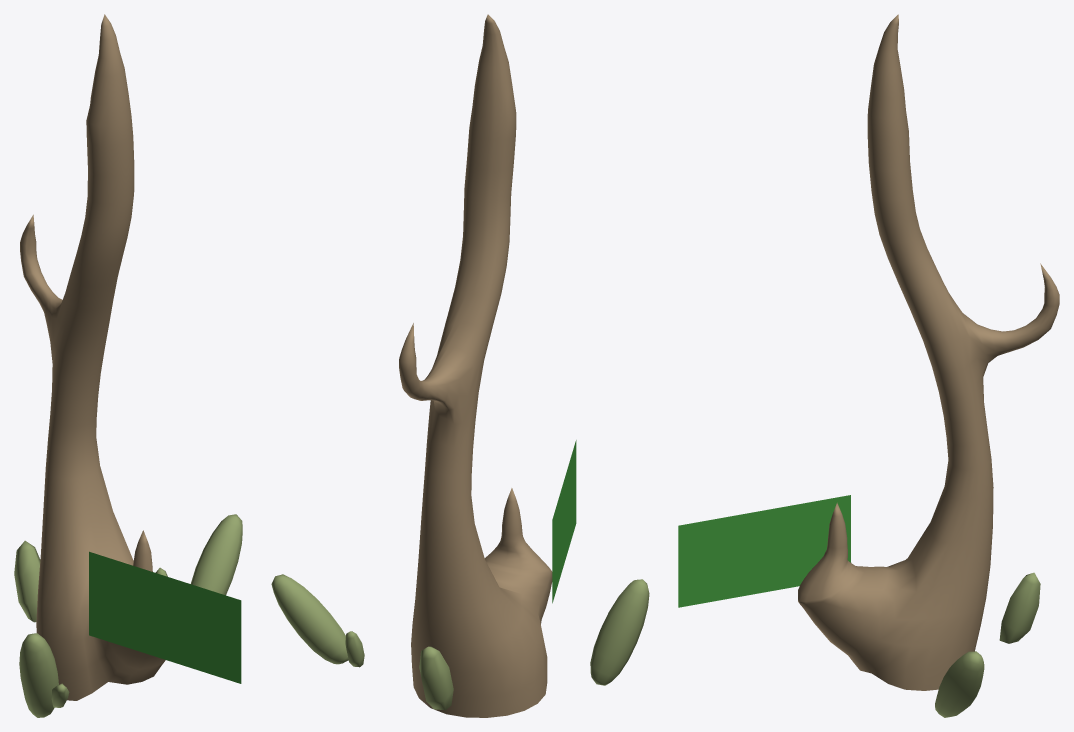
File: treedead.fbx
The picture shows the model from 3 angles, left to right: view 1: azimuth 30°, elevation 25°; view 2: azimuth 150°, elevation 25°; view 3: azimuth 270°, elevation 25°; orthographic projection. The views are drawn at different scales.
Parts seen in each view (by area): view 1: Treestunk, liane6, gewächse; view 2: Treestunk, gewächse, liane6; view 3: Treestunk, liane6, gewächse.
Boxes of the visible parts, bbox=[...] form: Treestunk: bbox=[20, 14, 165, 700]; liane6: bbox=[89, 551, 241, 683]; gewächse: bbox=[14, 514, 242, 717]; Treestunk: bbox=[399, 14, 552, 717]; gewächse: bbox=[271, 574, 649, 710]; liane6: bbox=[552, 440, 576, 603]; Treestunk: bbox=[798, 14, 1059, 690]; liane6: bbox=[678, 495, 850, 607]; gewächse: bbox=[851, 562, 1040, 717].
Bounding box in the file's own units: 3.01 × 6.54 × 3.45.
